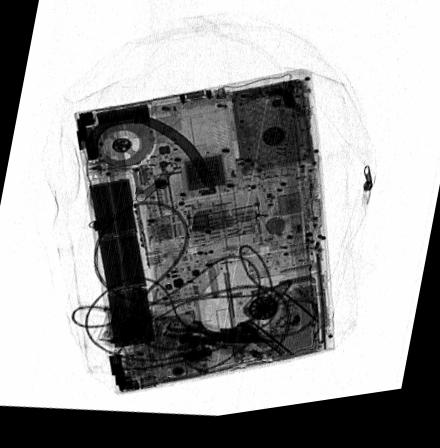Scissors: (137, 317, 276, 359)
